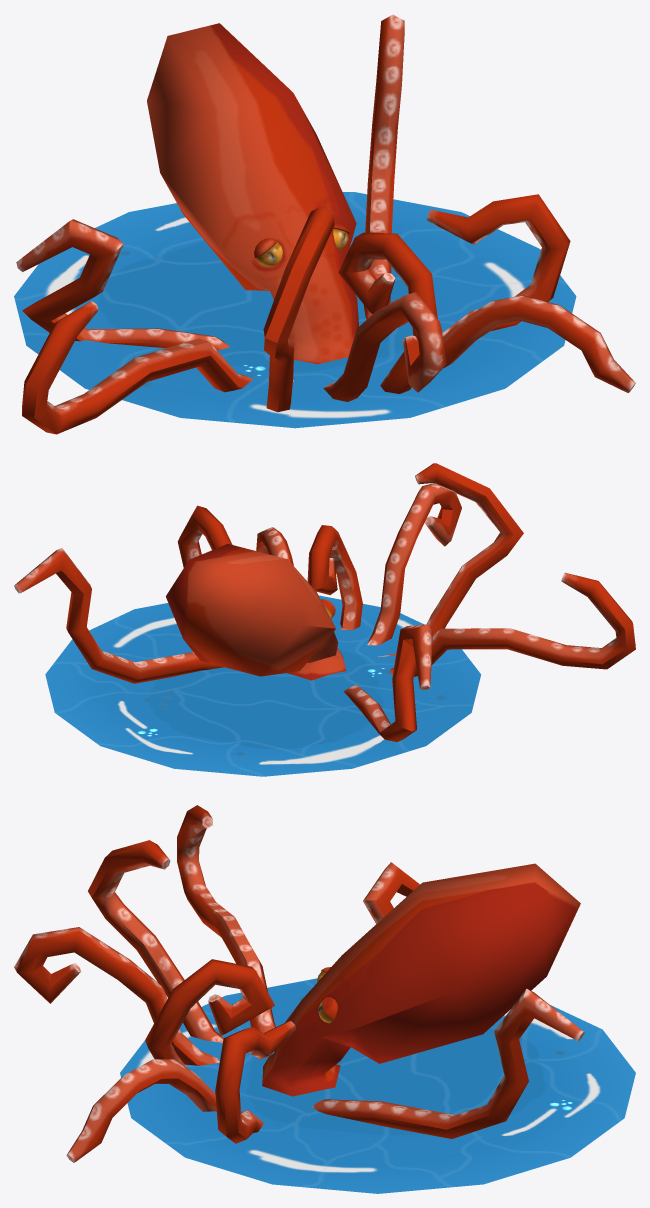
The model's file is the-kraken-55d900.glb.
3 renders of one model, top to bottom at view 1: azimuth 30°, elevation 25°; view 2: azimuth 150°, elevation 25°; view 3: azimuth 270°, elevation 25°, orthographic. The views are drawn at different scales.
Parts seen in each view (by area): view 1: PropMesh; view 2: PropMesh; view 3: PropMesh.
Part boxes in pixels (x1=…): PropMesh: x1=14, y1=14, x2=635, y2=434; PropMesh: x1=14, y1=463, x2=635, y2=776; PropMesh: x1=14, y1=805, x2=635, y2=1193.
Size of the model in its own units: 1.97 by 0.8 by 1.86.
Materials: 2 (2 with a texture image).
